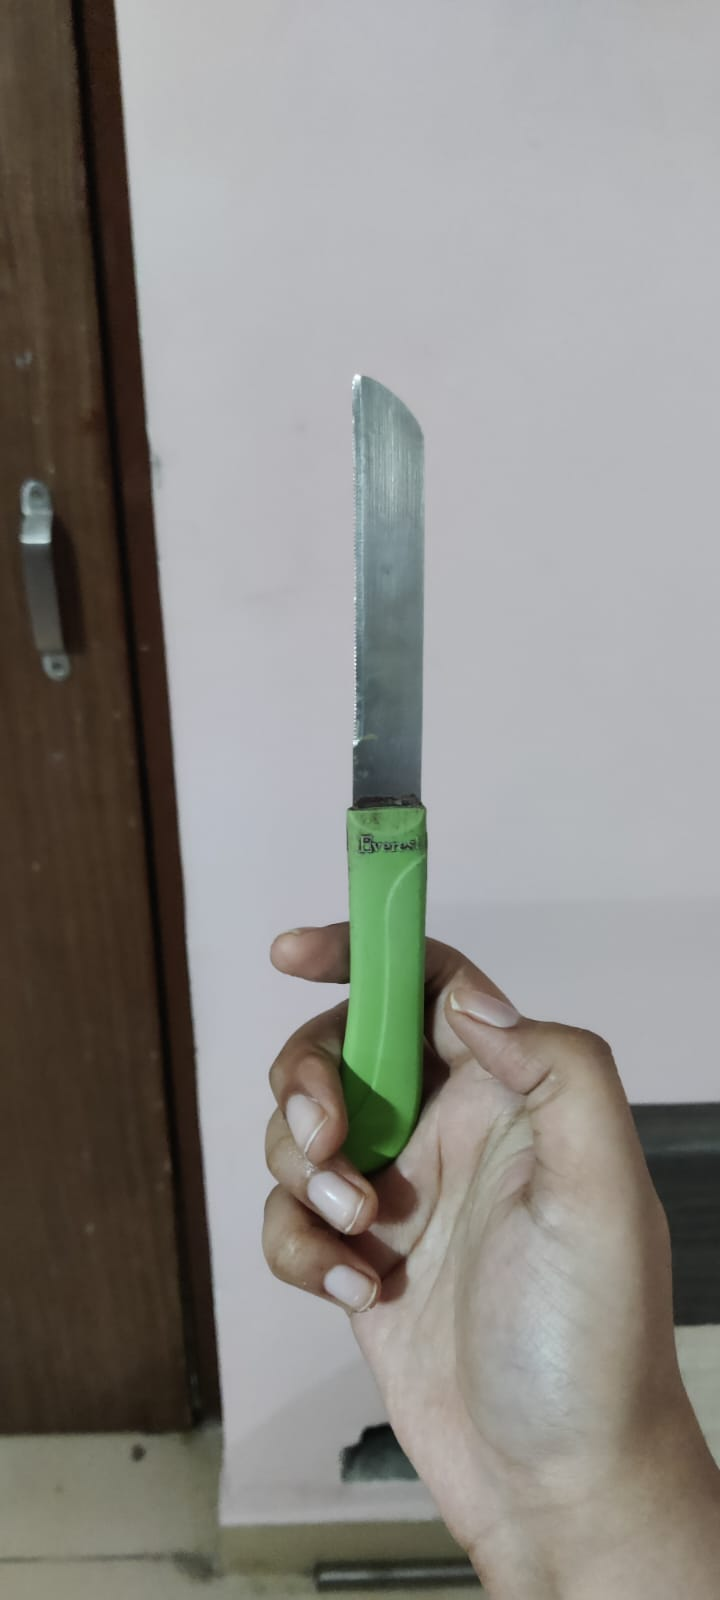knife: (353, 381, 430, 1160)
